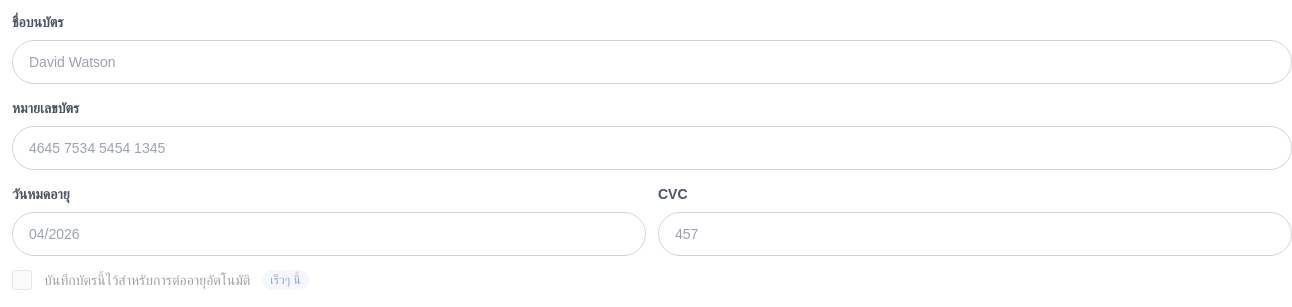
Scenario: #491 · paste is never blocked › a number pasted with dashes lands clean, because password managers must keep working
Step 1. Type "4242-4242-4242-4242" into the field with test id "card-number" → (636, 148), box [29,138,1243,158]
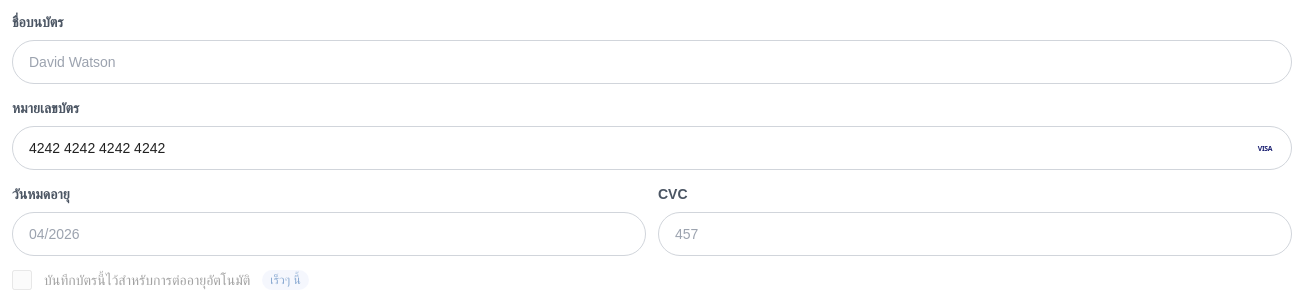
expect the field with test id "card-number" holds "4242 4242 4242 4242": met, box [29,138,1243,158]
